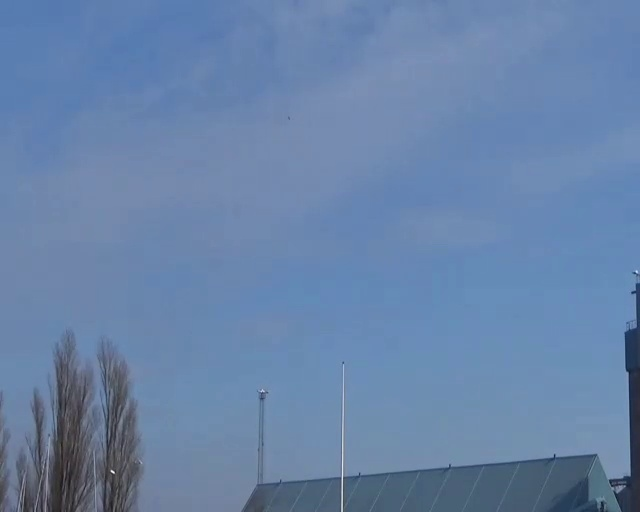BIRD: (285, 111, 296, 125)
